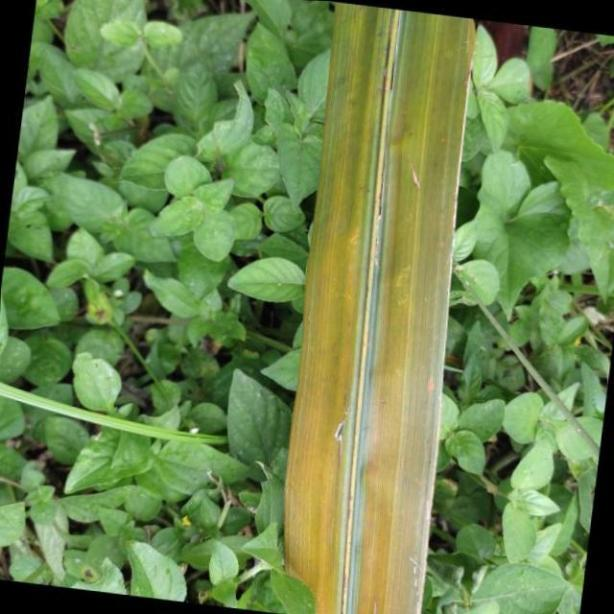Megnesium: (278, 0, 475, 614)
